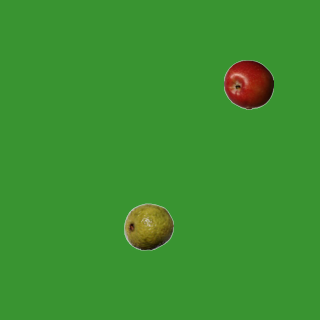Apple Braeburn: (223, 59, 273, 109)
Guava: (123, 201, 173, 251)
